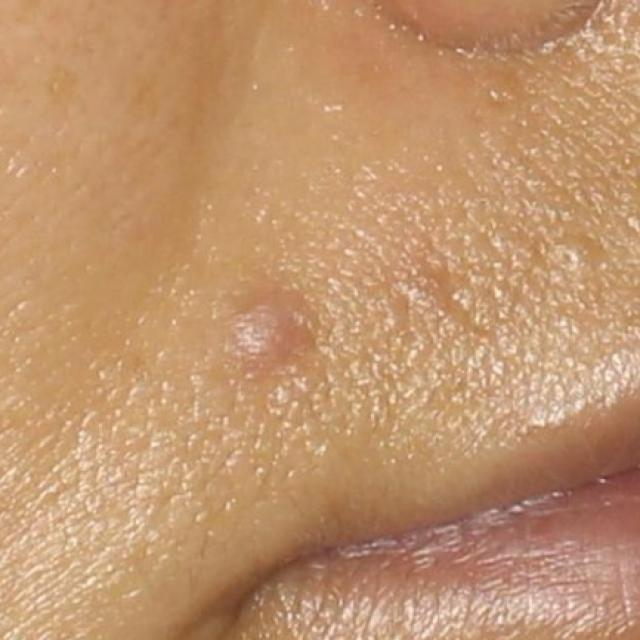nodule: (230, 302, 302, 367)
